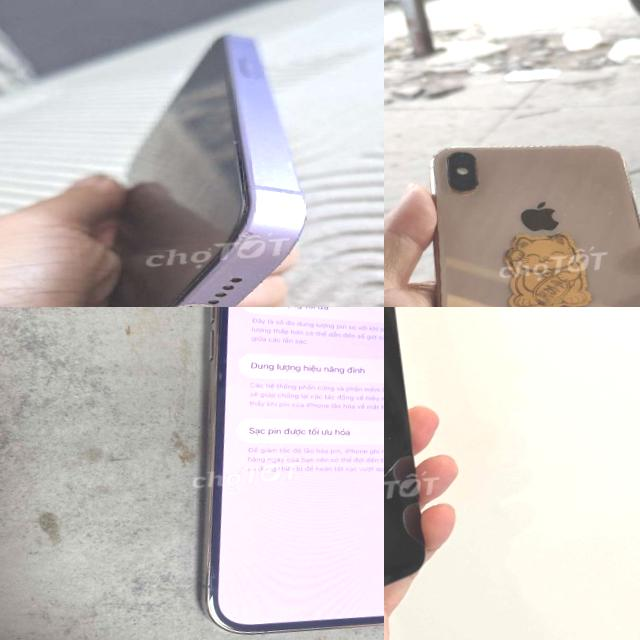gen_12_13: (59, 22, 330, 307), (155, 307, 384, 640)
gen_x_xs: (405, 120, 640, 307), (384, 307, 457, 639)
